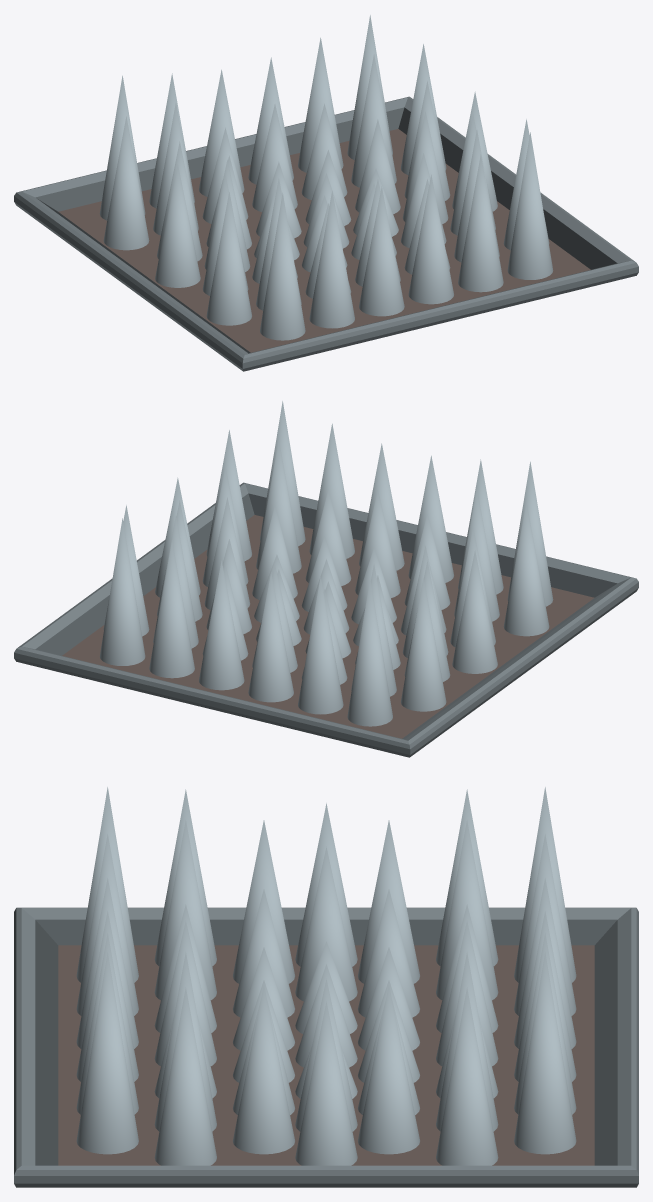
Rendered from spikes.fbx.
3 renders of one model, top to bottom at view 1: azimuth 30°, elevation 25°; view 2: azimuth 150°, elevation 25°; view 3: azimuth 270°, elevation 25°, orthographic. The views are drawn at different scales.
Visible parts, largest first — view 1: tileSpikes_large; view 2: tileSpikes_large; view 3: tileSpikes_large.
Boxes of the visible parts, x1=… form: tileSpikes_large: x1=14, y1=15, x2=638, y2=371; tileSpikes_large: x1=14, y1=401, x2=638, y2=757; tileSpikes_large: x1=14, y1=787, x2=638, y2=1187.
Size of the model in its own units: 400 by 134 by 400.
